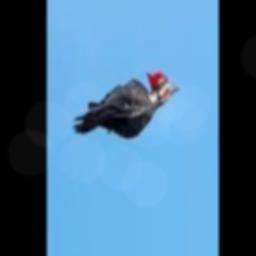Woodpecker: (72, 68, 178, 138)
